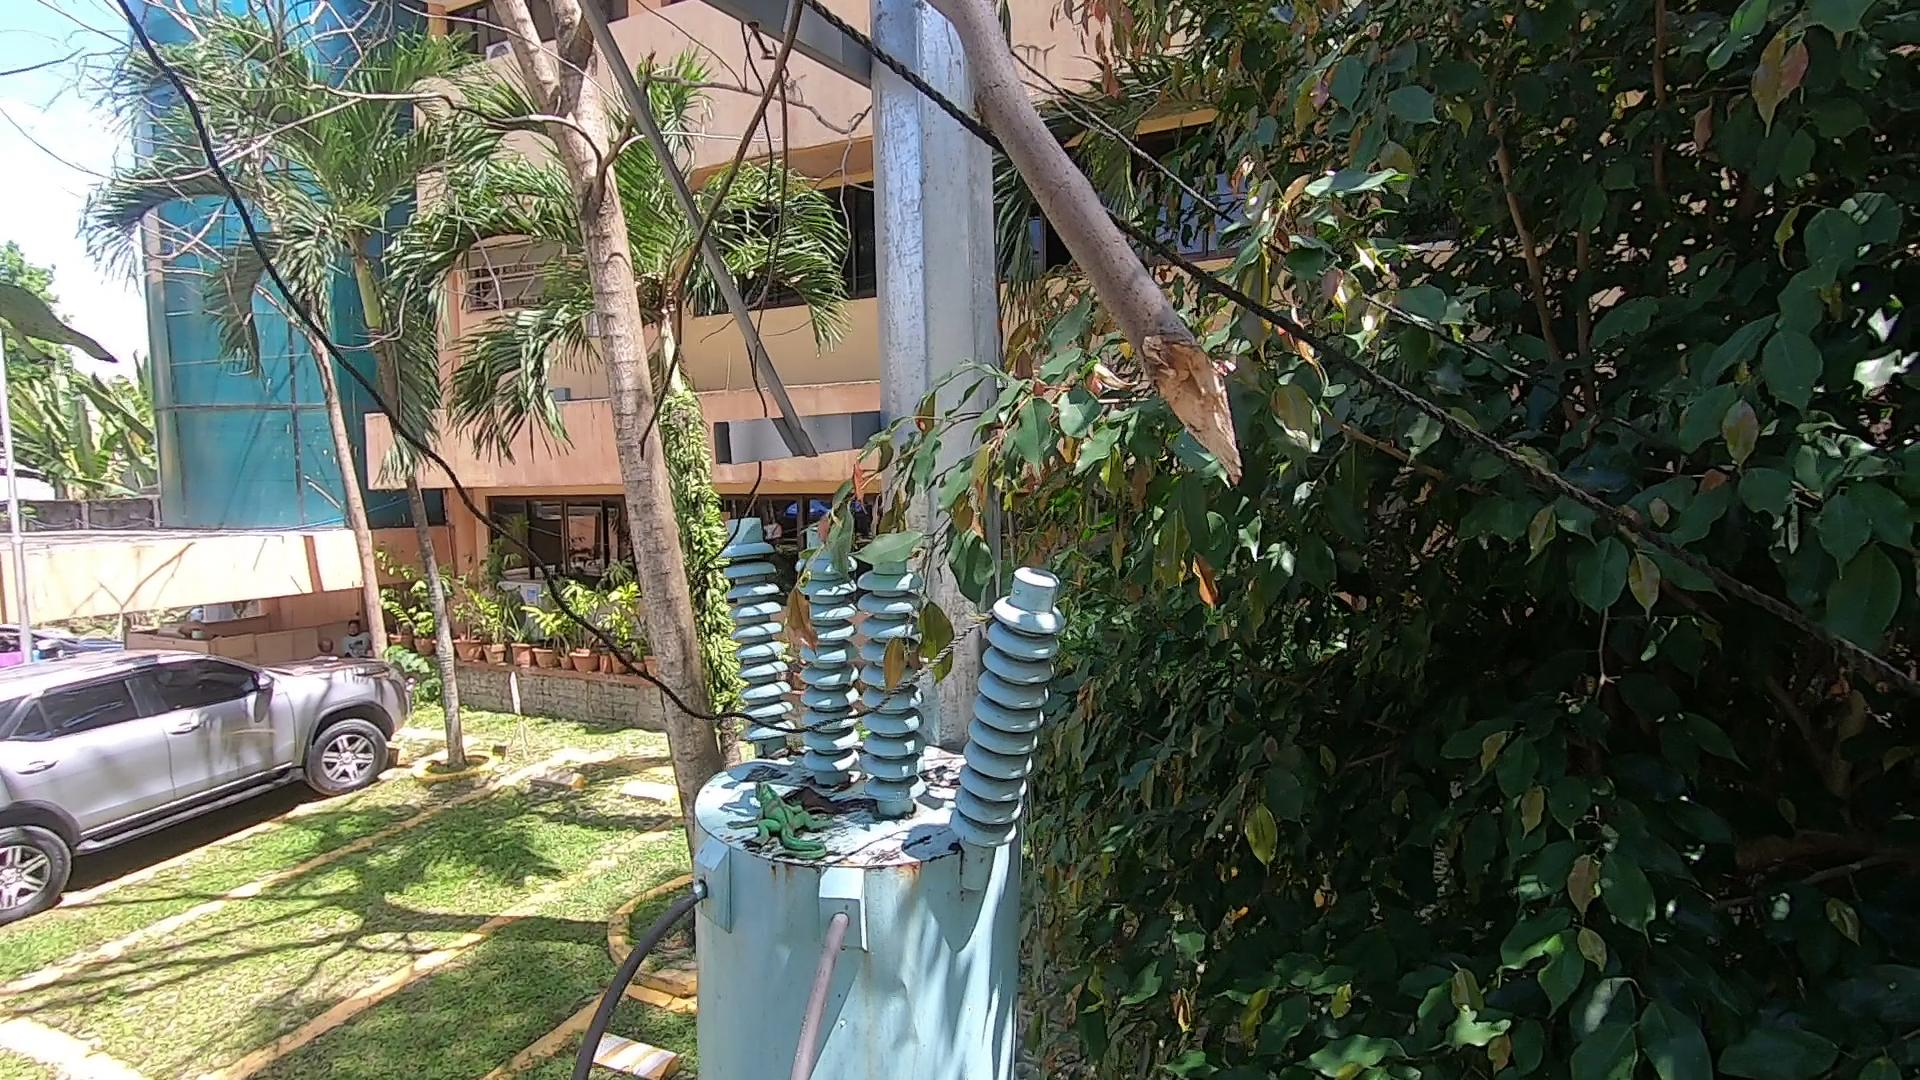branch with leaves: (758, 418, 1014, 707)
leaf: (779, 782, 895, 832), (922, 760, 981, 804), (753, 742, 803, 764)
tree branch: (737, 1, 1262, 512)
